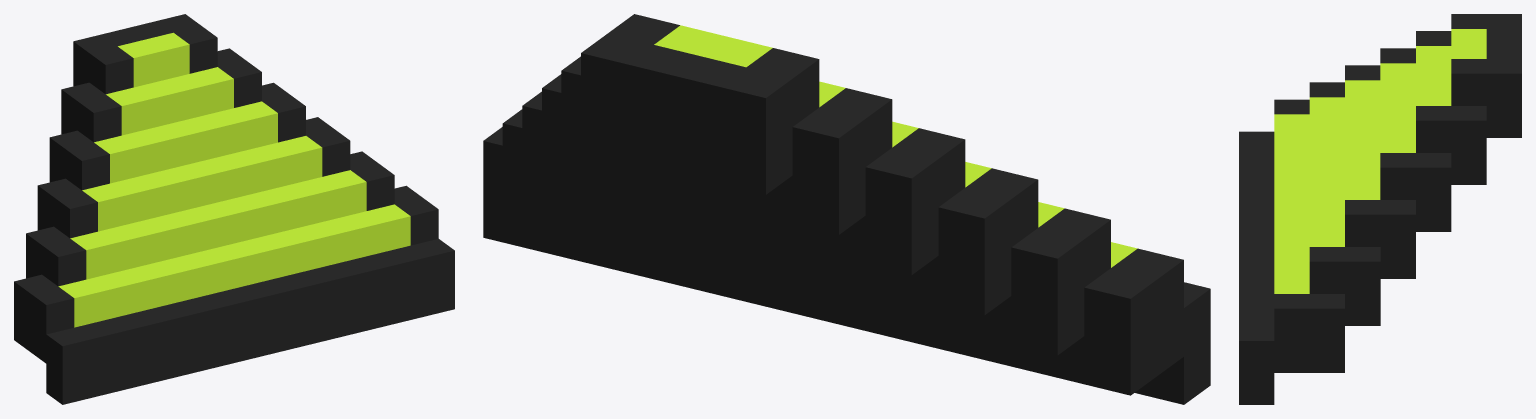
The model's file is tnt spawner handler button up.obj.
3 renders of one model, left to right at view 1: azimuth 30°, elevation 25°; view 2: azimuth 150°, elevation 25°; view 3: azimuth 270°, elevation 25°, orthographic. The views are drawn at different scales.
Size of the model in its own units: 1.4 by 0.8 by 0.8.
1 material, 1 textured.
